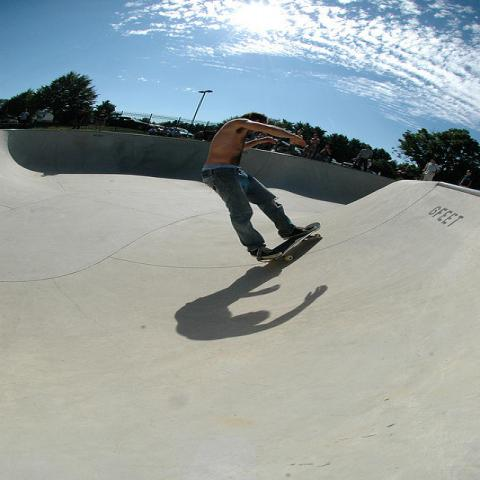car: (105, 117, 155, 130), (167, 128, 186, 134)
